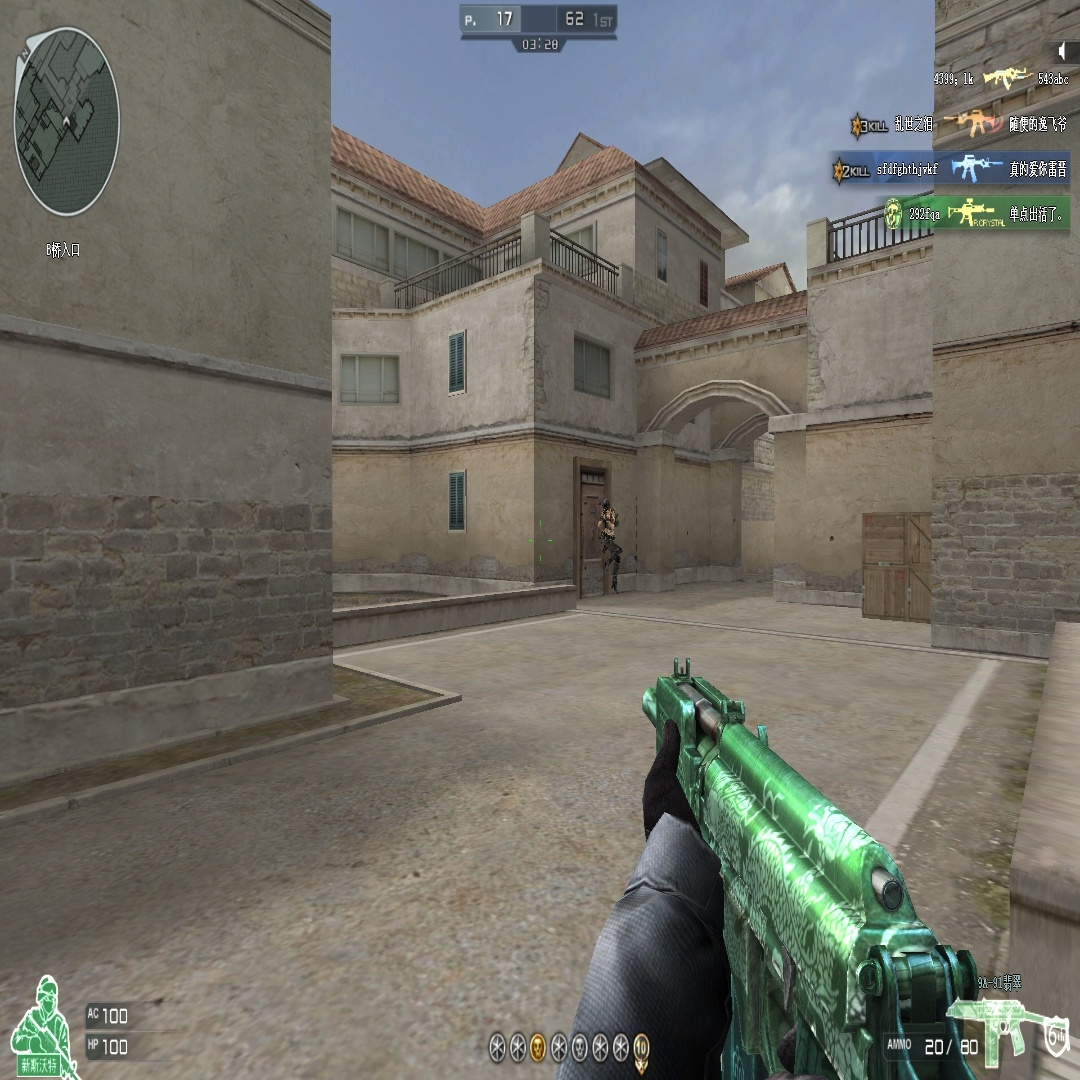p: (595, 497, 623, 596)
